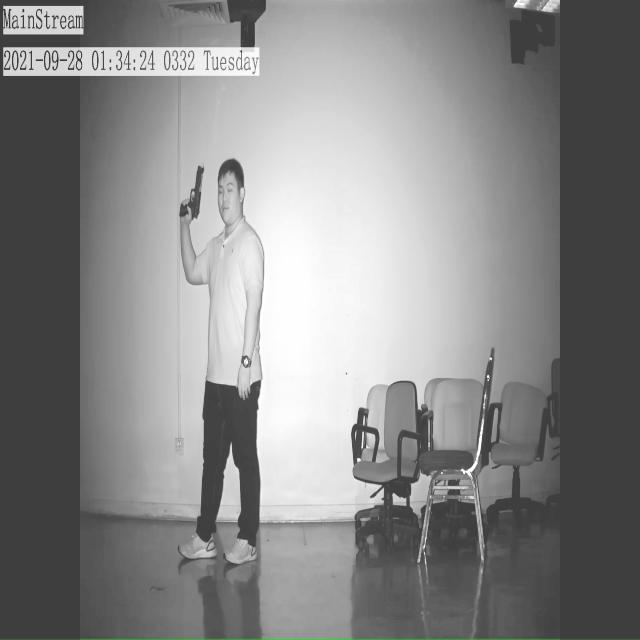Gun: (175, 155, 216, 226)
